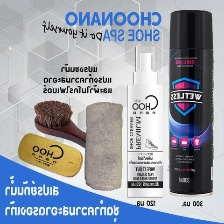aerosol_cans: (165, 6, 216, 200)
cleaning_solution: (124, 44, 166, 200)
